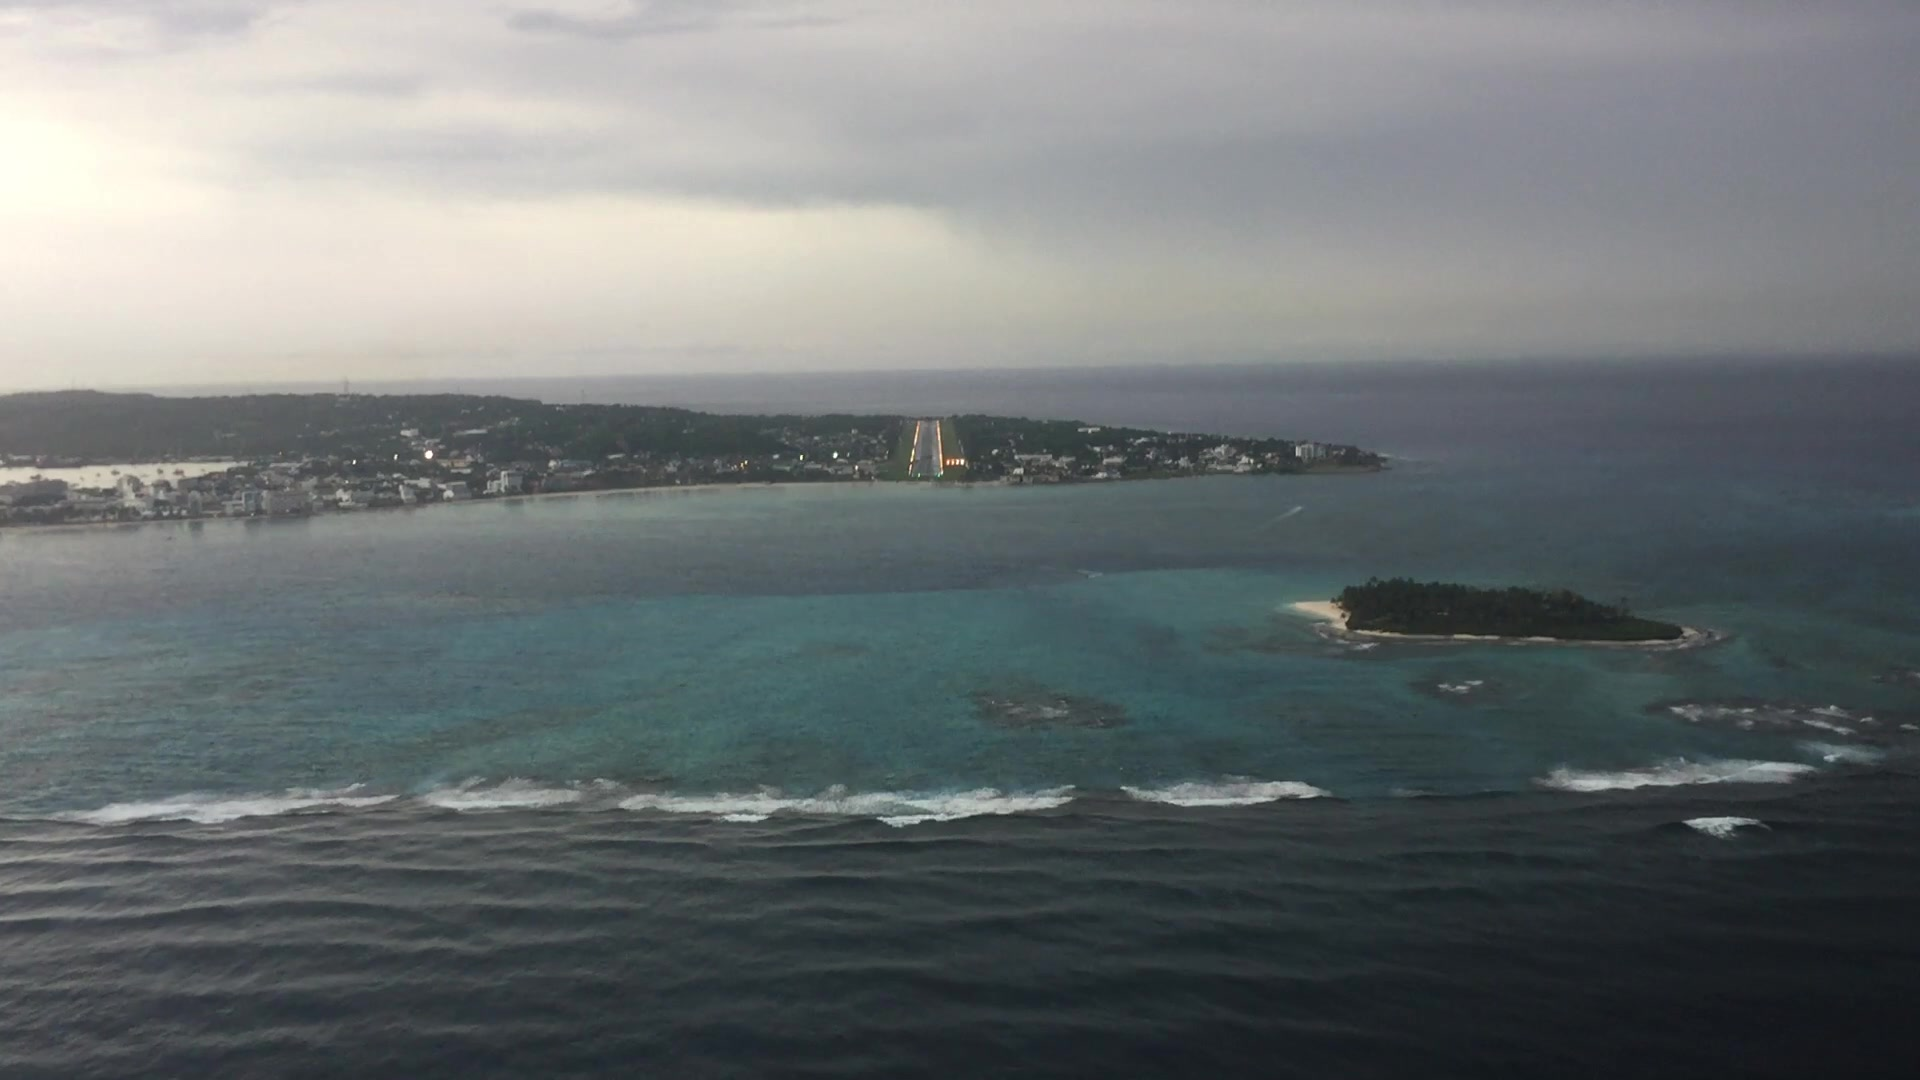runway: (907, 417, 944, 479)
